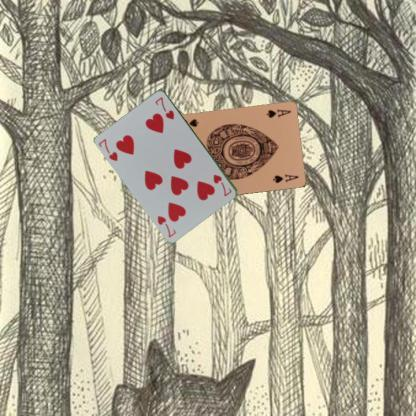7h: (210, 172, 233, 198), (97, 136, 119, 162)
As: (263, 107, 292, 119)
